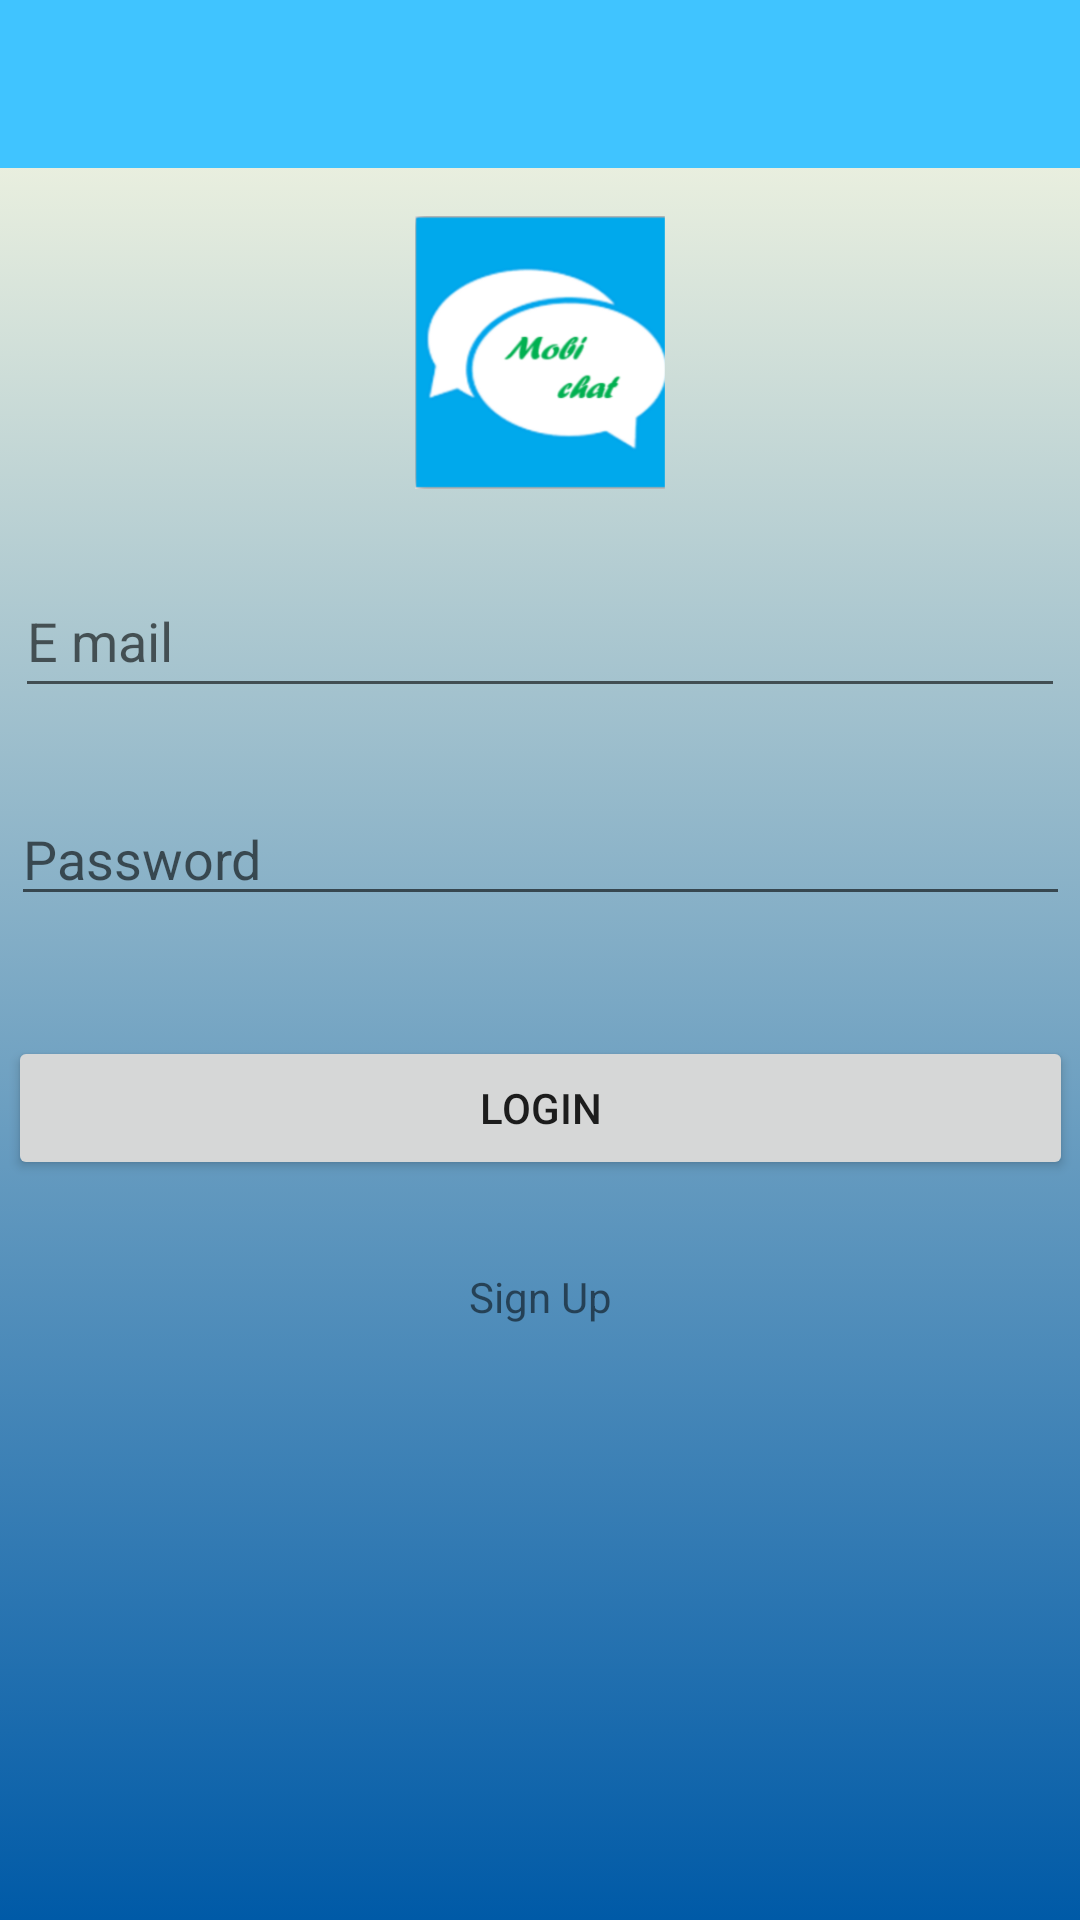

Where to tap for icons on this 1080 × 1920 app screen, as point (x, y):
log: point (540, 352)
